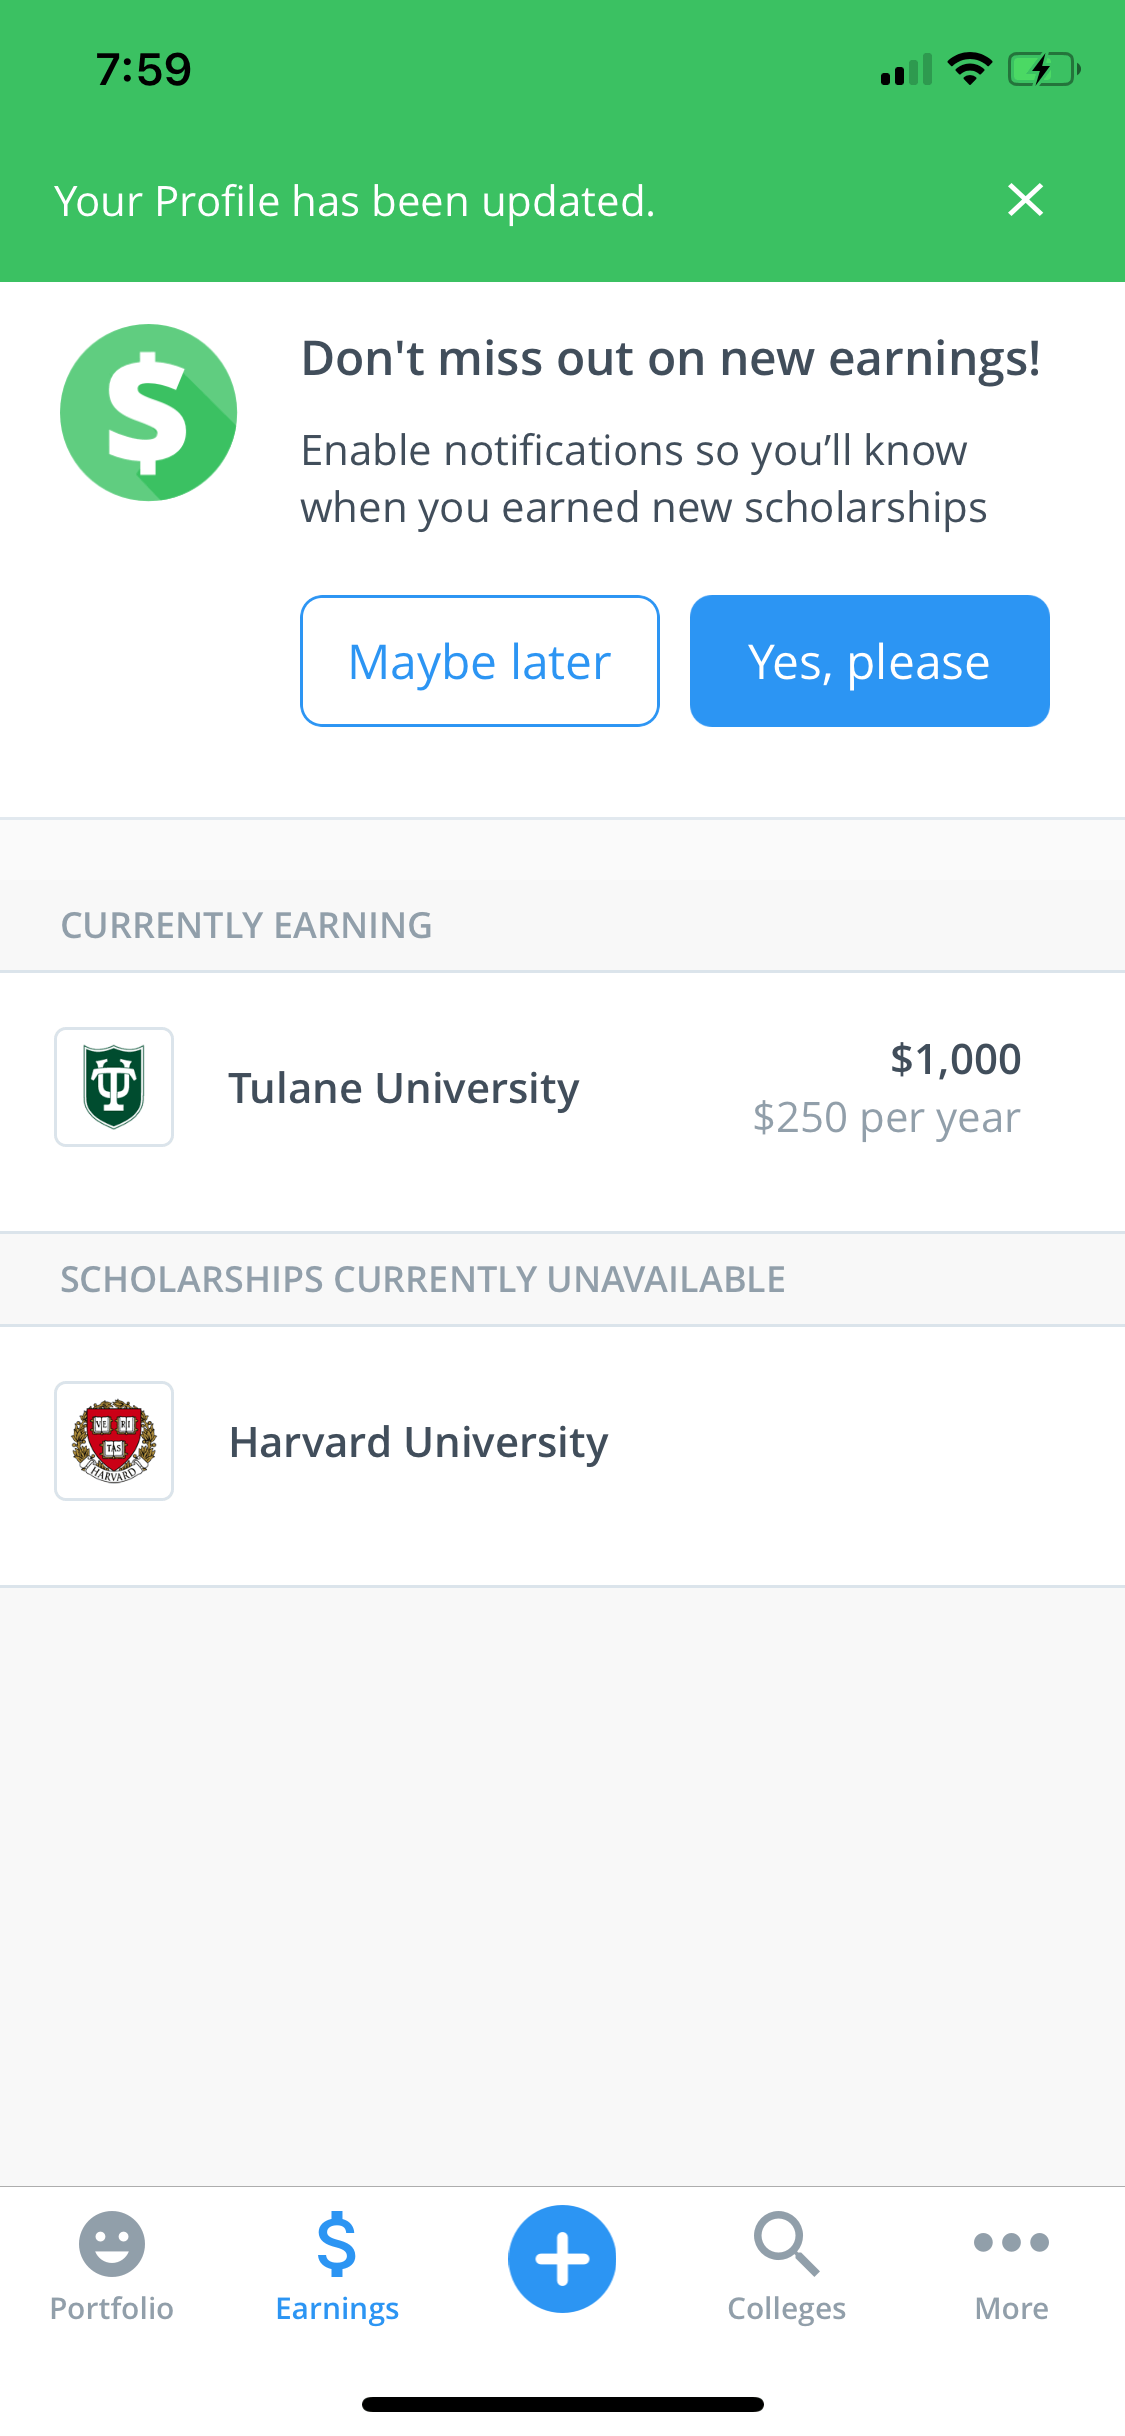Buttons: (286, 565, 671, 746), (673, 569, 1061, 746)
